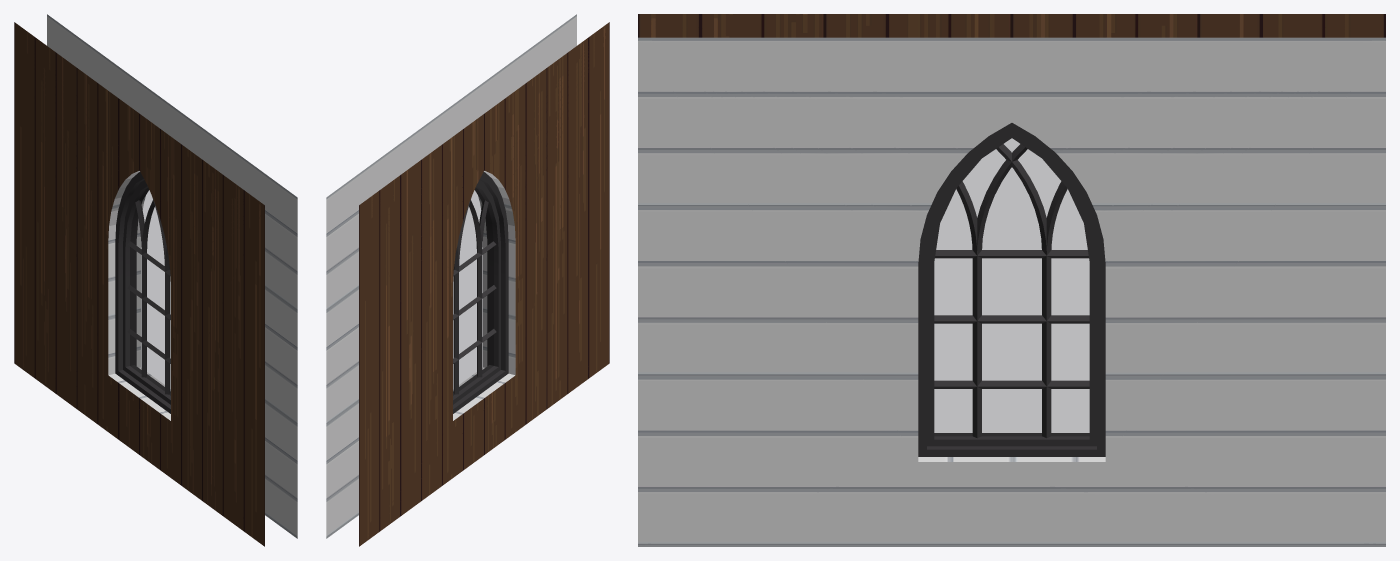
Rendered from SM_window_13.glb.
3 views of the same model, side by side, from view 1: azimuth 30°, elevation 25°; view 2: azimuth 150°, elevation 25°; view 3: azimuth 270°, elevation 25° (orthographic). The views are drawn at different scales.
Visible parts, largest first — view 1: SM_window_13; view 2: SM_window_13; view 3: SM_window_13.
Boxes of the visible parts, x1,y1,x2,y2 form: SM_window_13: (14,14,297,546); SM_window_13: (326,14,609,546); SM_window_13: (638,14,1385,546).
Size of the model in its own units: 0.3 by 3.01 by 4.
4 materials, 3 textured.
